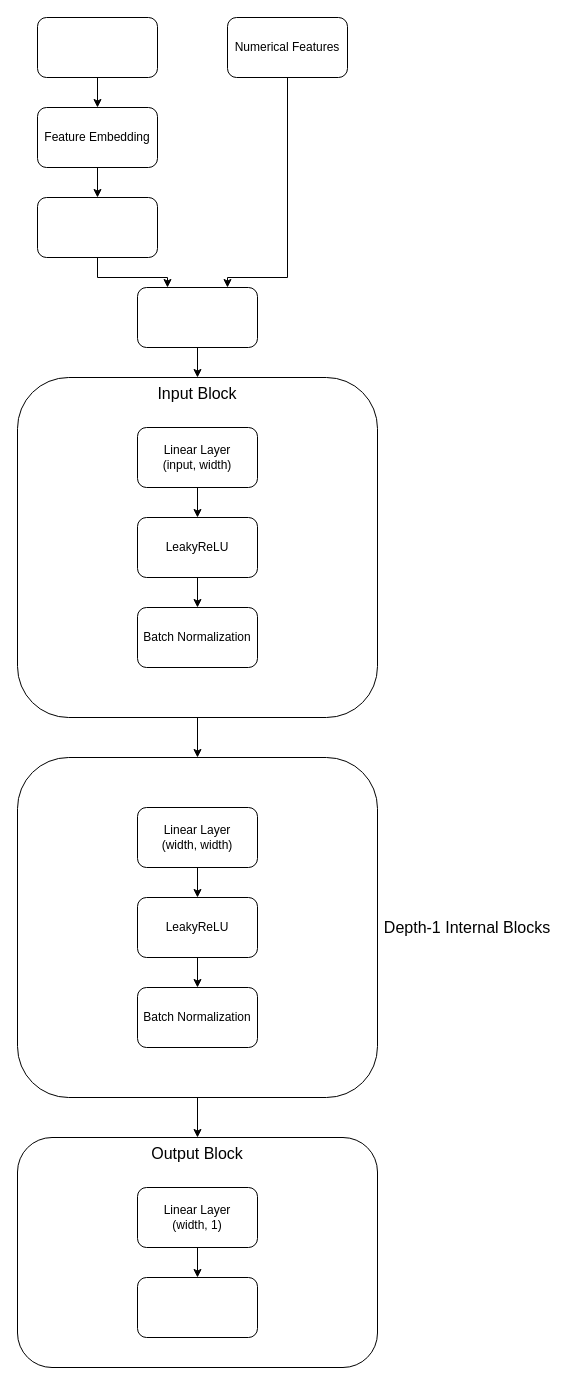
Image size: 575x1385. Some labels were removed from this diagram. Here are the shapes that lost their labels. From the top down, the box of each, then its label:
(36, 16, 158, 78): Categorical Features
(36, 196, 158, 258): Dropout 30%
(136, 286, 258, 348): Concatenate
(16, 756, 378, 1098): Internal Block
(136, 1276, 258, 1338): Sigmoid
